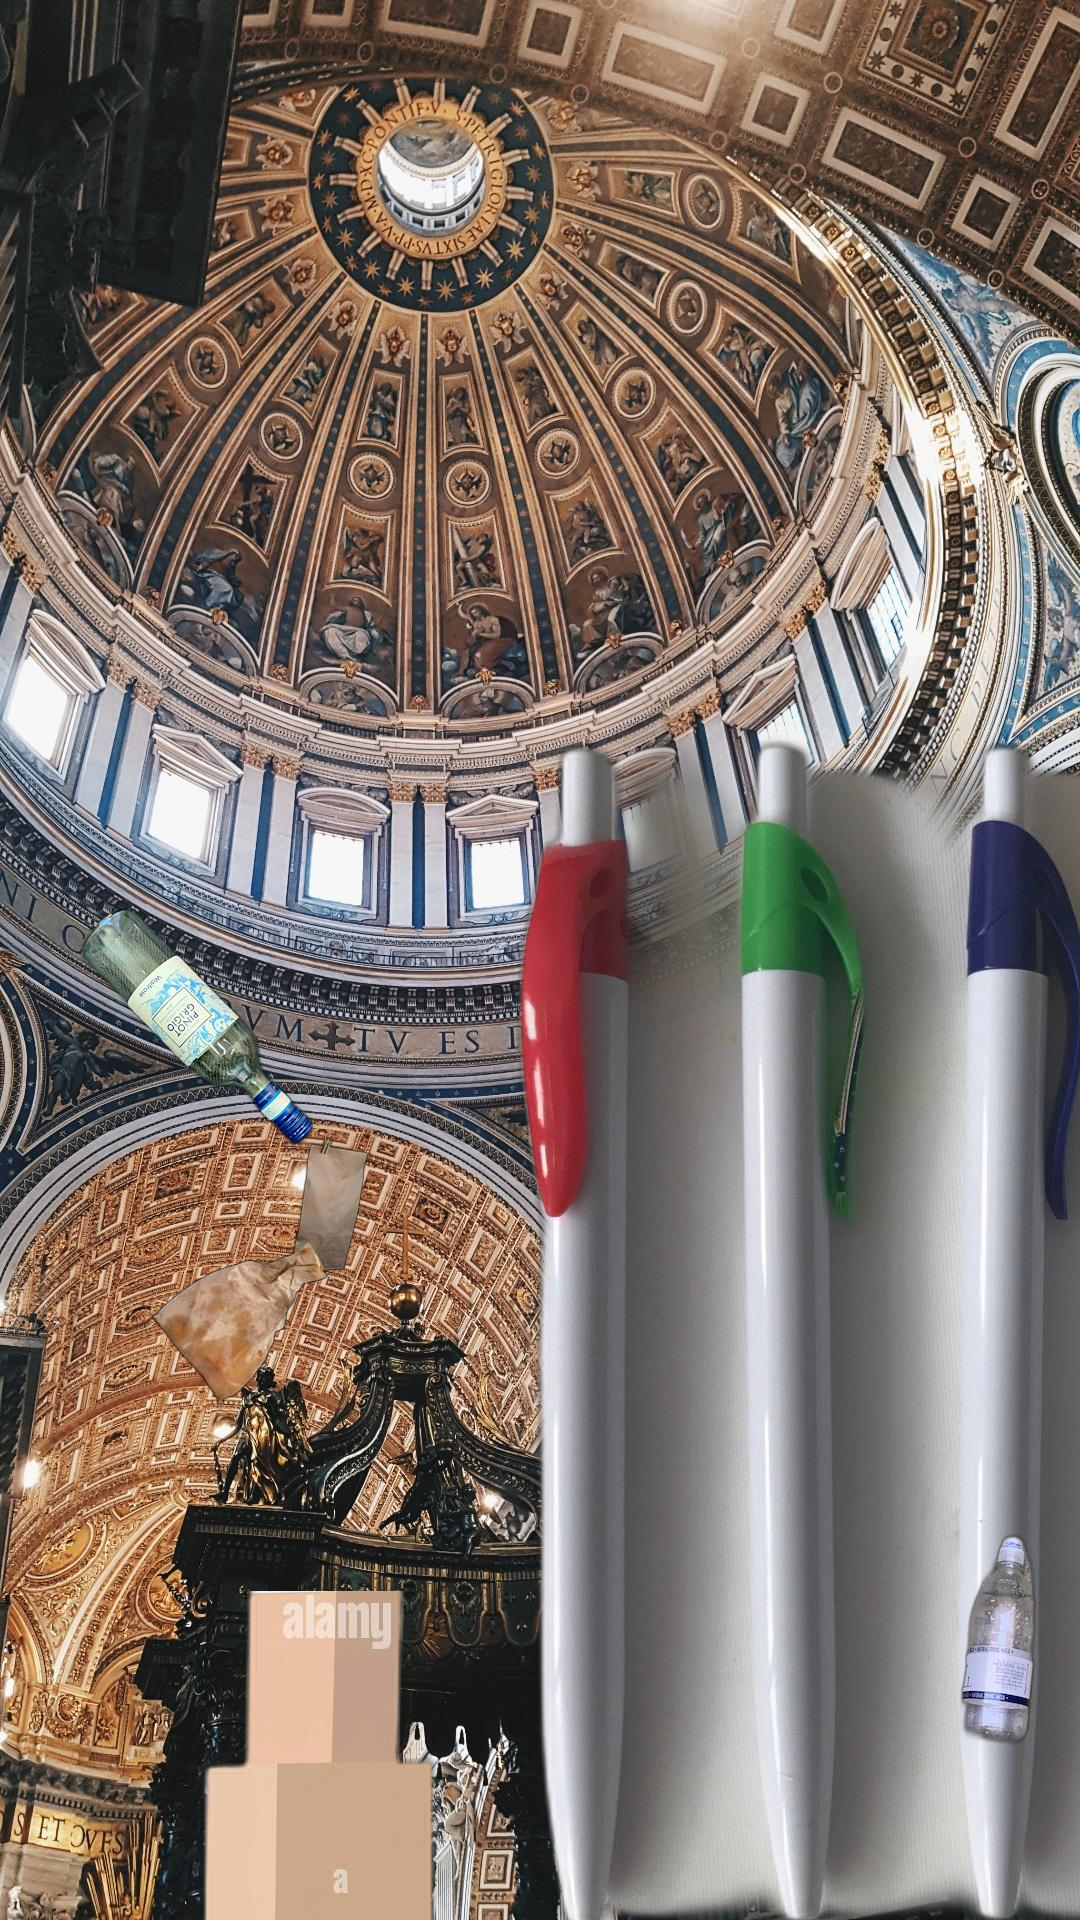glass: (78, 902, 316, 1151)
metal-cans: (684, 1317, 1080, 1920), (894, 1319, 1015, 1437)
paper-bag: (149, 1134, 371, 1408)
penholder: (506, 655, 1080, 1920)
plastic-bottles: (956, 1530, 1040, 1749)
trashbox-cardboard: (65, 1592, 555, 1920)
